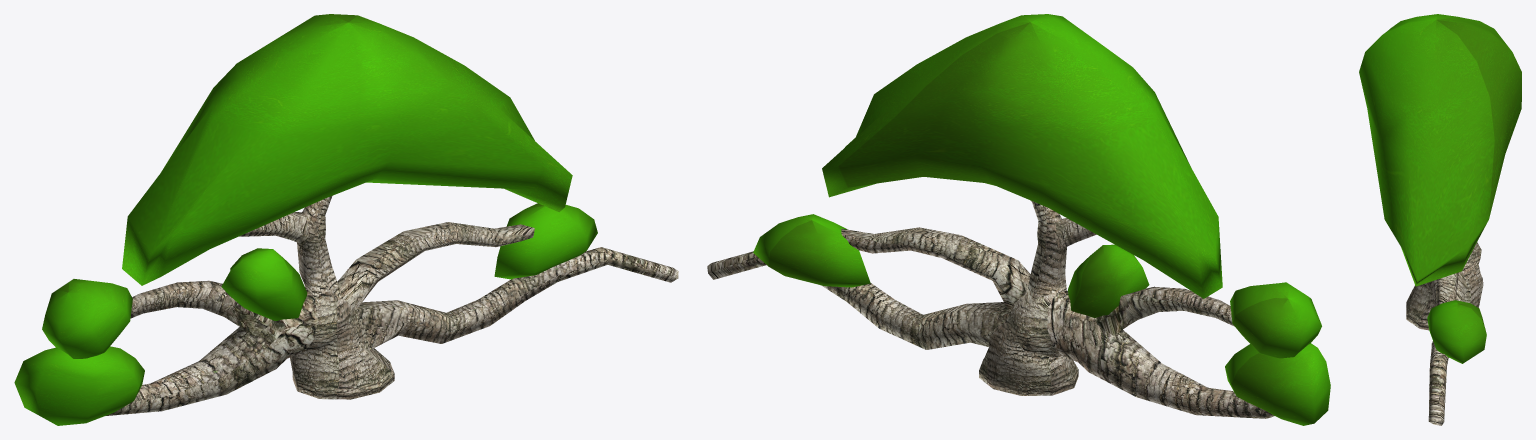
The picture shows the model from 3 angles, left to right: view 1: azimuth 30°, elevation 25°; view 2: azimuth 150°, elevation 25°; view 3: azimuth 270°, elevation 25°; orthographic projection. The views are drawn at different scales.
Parts seen in each view (by area): view 1: polySurface30; view 2: polySurface30; view 3: polySurface30.
Part boxes in pixels (x1,y1,x2,y2): polySurface30: (14, 14, 678, 425); polySurface30: (707, 14, 1330, 425); polySurface30: (1359, 14, 1521, 425).
Bounding box in the file's own units: 31848 × 17093 × 8568.
